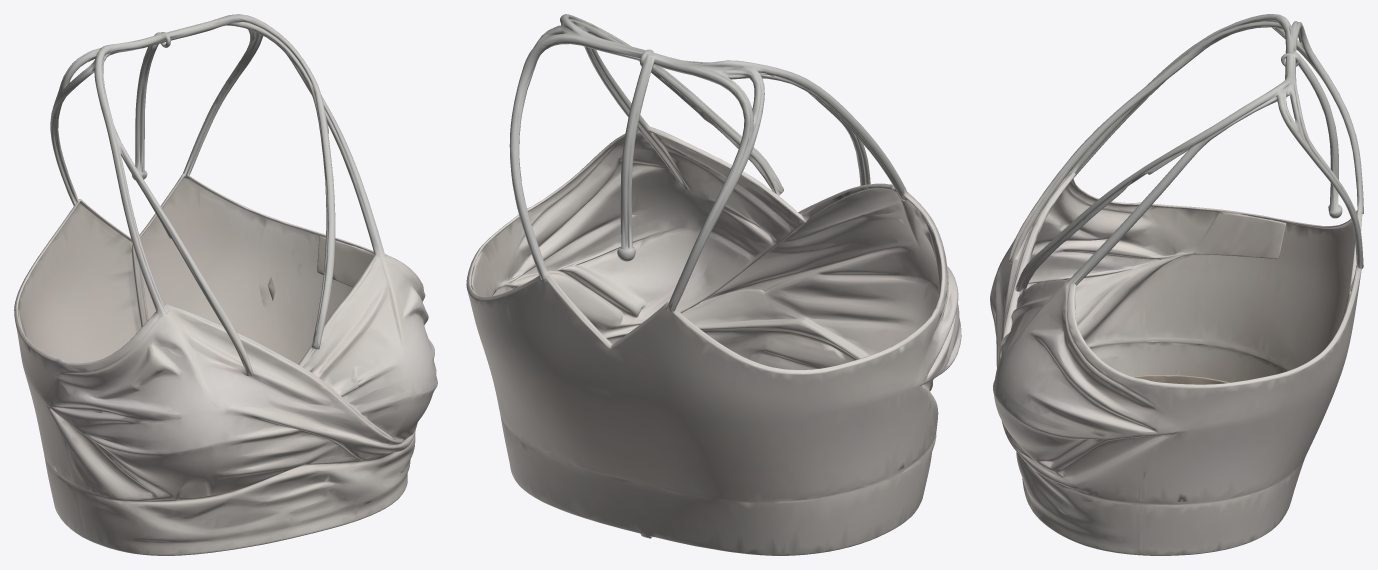
The model's file is top.glb.
3 views of the same model, side by side, from view 1: azimuth 30°, elevation 25°; view 2: azimuth 150°, elevation 25°; view 3: azimuth 270°, elevation 25° (orthographic). The views are drawn at different scales.
Parts seen in each view (by area): view 1: node_0; view 2: node_0; view 3: node_0.
Part boxes in pixels (bbox=[...]): node_0: bbox=[14, 14, 437, 555]; node_0: bbox=[466, 14, 961, 555]; node_0: bbox=[990, 14, 1363, 555].
Bounding box in the file's own units: 0.8474 × 0.9443 × 0.7438.
Materials: 1 (1 with a texture image).
